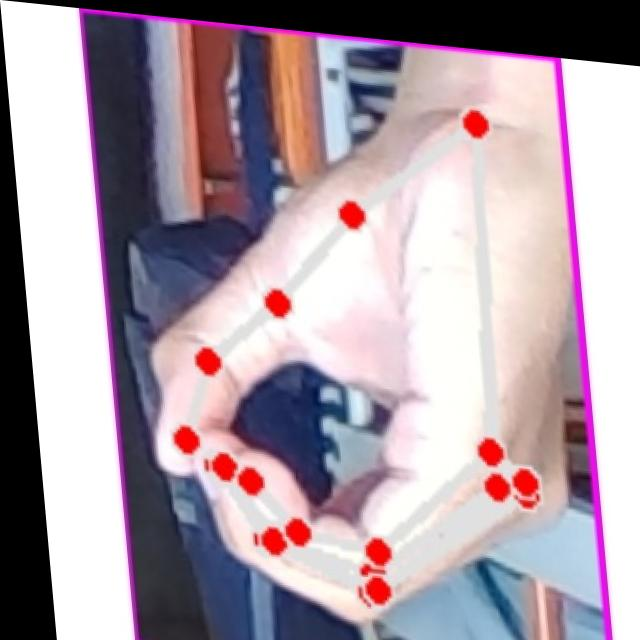O: (97, 27, 584, 640)
